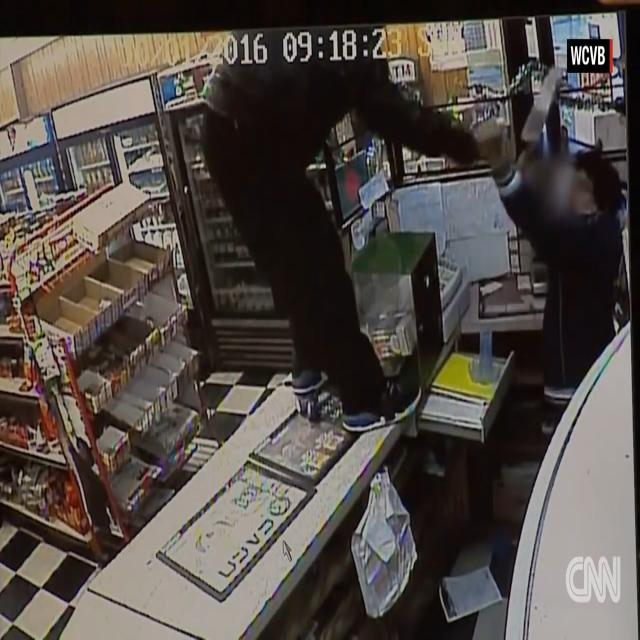Sharp-Object: (521, 66, 559, 170)
Violence: (204, 36, 626, 426)
